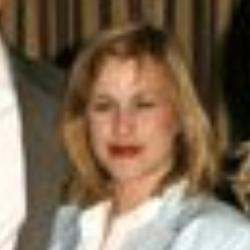face: (43, 16, 225, 221)
